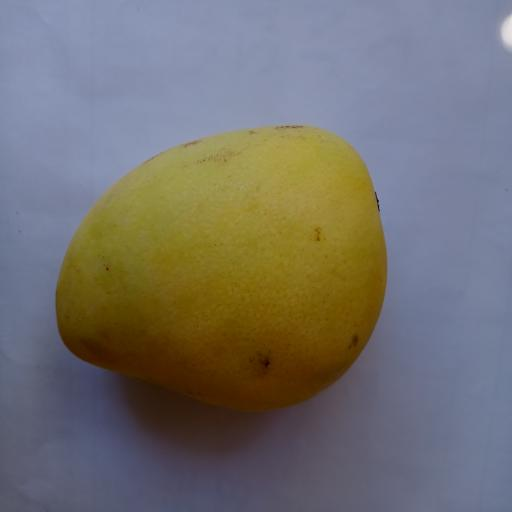mango-ripe: (23, 105, 421, 424)
